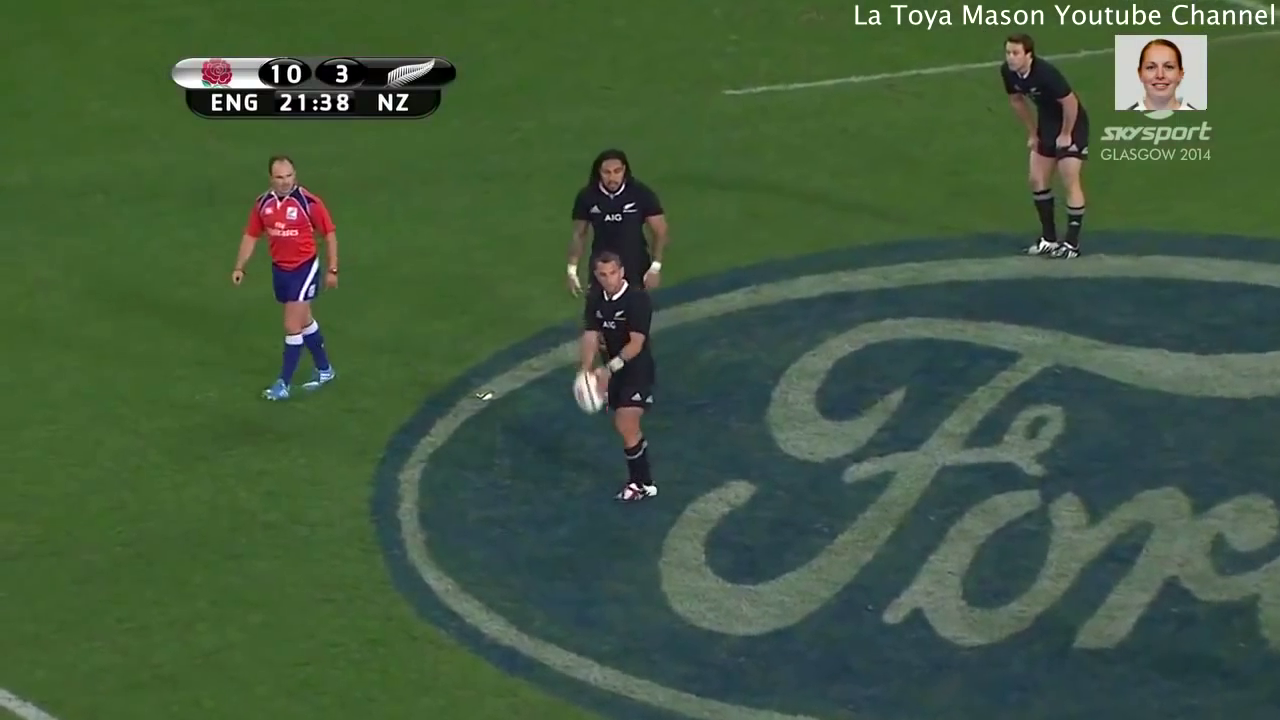ball: (568, 358, 612, 425)
player: (227, 151, 354, 408), (982, 30, 1101, 268), (567, 250, 663, 512), (557, 143, 670, 294)
